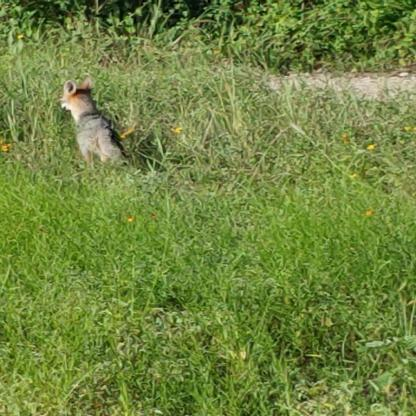zorro: (58, 74, 140, 174)
